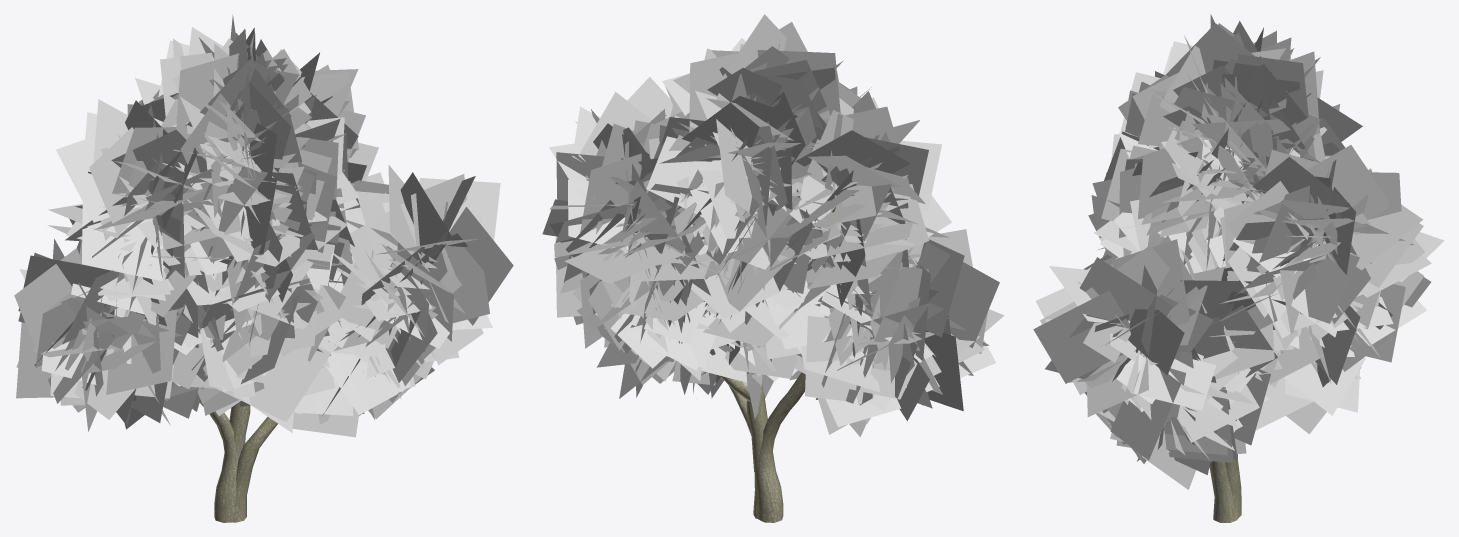
File: tree.fbx
3 views of the same model, side by side, from view 1: azimuth 30°, elevation 25°; view 2: azimuth 150°, elevation 25°; view 3: azimuth 270°, elevation 25° (orthographic).
Visible parts, largest first — view 1: tree.001; view 2: tree.001; view 3: tree.001.
Part boxes in pixels (x1,y1,x2,y2): tree.001: [14, 15, 513, 522]; tree.001: [542, 14, 1004, 522]; tree.001: [1033, 14, 1444, 522].
Bounding box in the file's own units: 250 × 259 × 194.
